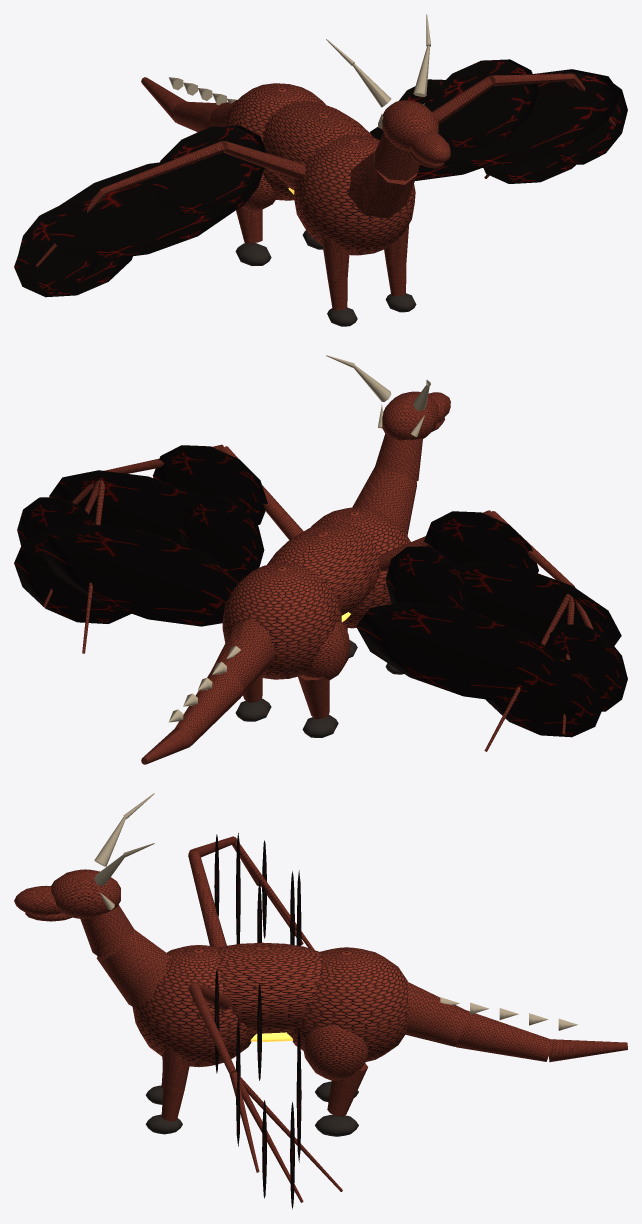
Rendered from dragon_v2.glb.
The picture shows the model from 3 angles, top to bottom: view 1: azimuth 30°, elevation 25°; view 2: azimuth 150°, elevation 25°; view 3: azimuth 270°, elevation 25°; orthographic projection.
Parts seen in each view (by area): view 1: DRA_Ala_Mem_B_I, DRA_Pecho, DRA_Ala_Mem_B_D, DRA_Ala_Mem_A_I, DRA_Ala_Mem_A_D, DRA_Lomo, DRA_Ala_Mem_C_I, DRA_Grupa, DRA_Cuello_1, DRA_Craneo, DRA_Ala_Mem_C_D, DRA_Ala_Mem_D_D (+22 smaller); view 2: DRA_Ala_Mem_E_I, DRA_Ala_Mem_E_D, DRA_Grupa, DRA_Ala_Mem_B_I, DRA_Ala_Mem_B_D, DRA_Lomo, DRA_Ala_Mem_A_D, DRA_Ala_Mem_F_D, DRA_Ala_Mem_A_I, DRA_Ala_Mem_D_I, DRA_Ala_Mem_F_I, DRA_Ala_Mem_D_D (+17 smaller); view 3: DRA_Grupa, DRA_Pecho, DRA_Lomo, DRA_Cuello_1, DRA_Cola_2, DRA_Muslo_D, DRA_Cola_1, DRA_Craneo, DRA_Cuello_2, DRA_Ala_Brazo_I, DRA_Cola_3, DRA_Tibia_D (+9 smaller).
Part boxes in pixels (x1,y1,x2,y2): DRA_Ala_Mem_B_I: [49, 165, 239, 260]; DRA_Pecho: [294, 134, 415, 255]; DRA_Ala_Mem_B_D: [444, 69, 621, 169]; DRA_Ala_Mem_A_I: [152, 125, 266, 215]; DRA_Ala_Mem_A_D: [427, 59, 538, 149]; DRA_Lomo: [263, 101, 373, 190]; DRA_Ala_Mem_C_I: [17, 204, 99, 291]; DRA_Grupa: [224, 83, 325, 200]; DRA_Cuello_1: [348, 151, 416, 218]; DRA_Craneo: [382, 100, 438, 151]; DRA_Ala_Mem_C_D: [548, 84, 627, 164]; DRA_Ala_Mem_D_D: [483, 154, 575, 183]; DRA_Ala_Mem_E_I: [356, 601, 570, 703]; DRA_Ala_Mem_E_D: [40, 524, 242, 626]; DRA_Grupa: [222, 562, 341, 679]; DRA_Ala_Mem_B_I: [456, 561, 621, 645]; DRA_Ala_Mem_B_D: [49, 470, 200, 543]; DRA_Lomo: [267, 521, 379, 615]; DRA_Ala_Mem_A_D: [153, 445, 267, 525]; DRA_Ala_Mem_F_D: [179, 495, 264, 578]; DRA_Ala_Mem_A_I: [423, 511, 538, 573]; DRA_Ala_Mem_D_I: [485, 655, 603, 737]; DRA_Ala_Mem_F_I: [385, 546, 470, 610]; DRA_Ala_Mem_D_D: [14, 533, 131, 623]; DRA_Grupa: [287, 947, 408, 1061]; DRA_Pecho: [132, 945, 256, 1067]; DRA_Lomo: [217, 942, 322, 1033]; DRA_Cuello_1: [96, 929, 170, 1008]; DRA_Cola_2: [455, 1010, 551, 1061]; DRA_Muslo_D: [302, 1025, 368, 1080]; DRA_Cola_1: [405, 982, 467, 1046]; DRA_Craneo: [51, 869, 120, 918]; DRA_Cuello_2: [80, 904, 134, 957]; DRA_Ala_Brazo_I: [188, 851, 226, 947]; DRA_Cola_3: [549, 1039, 627, 1062]; DRA_Tibia_D: [327, 1063, 367, 1116].
Size of the model in its own units: 14.59 by 6.71 by 12.45.
Materials: 63 (43 with a texture image).
